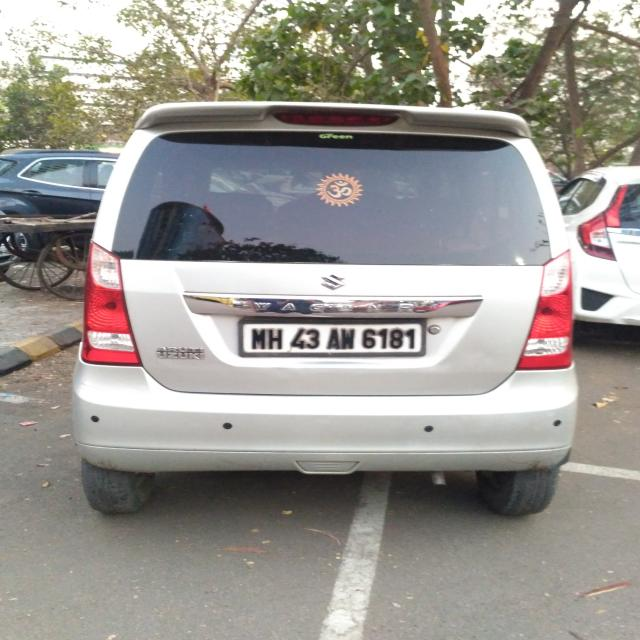Number-Plate: (242, 321, 423, 358)
